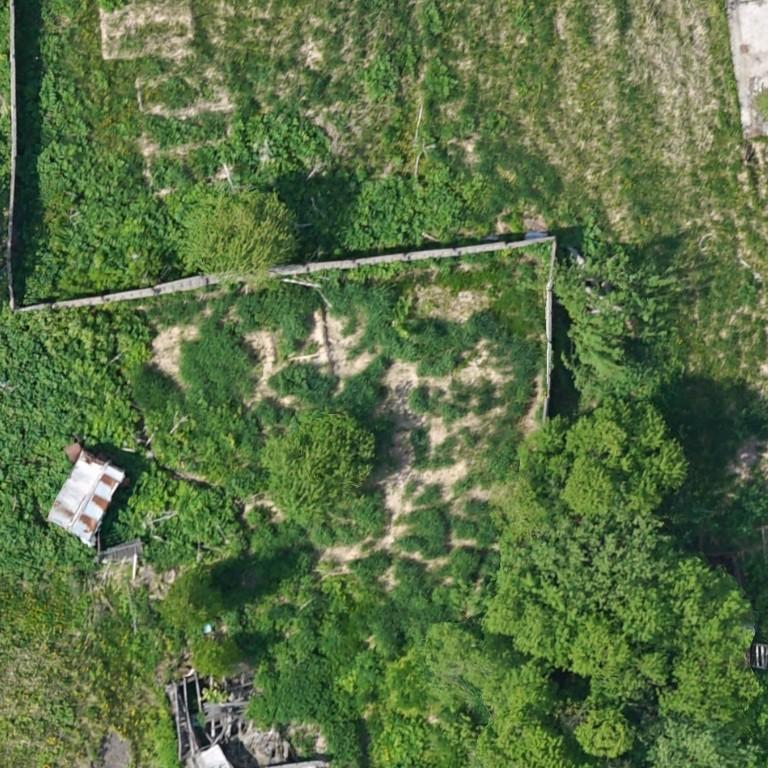hogweed: (0, 306, 233, 575), (17, 4, 172, 304), (301, 175, 461, 255), (187, 105, 327, 178), (145, 116, 224, 144), (362, 58, 400, 100), (424, 56, 455, 98)
